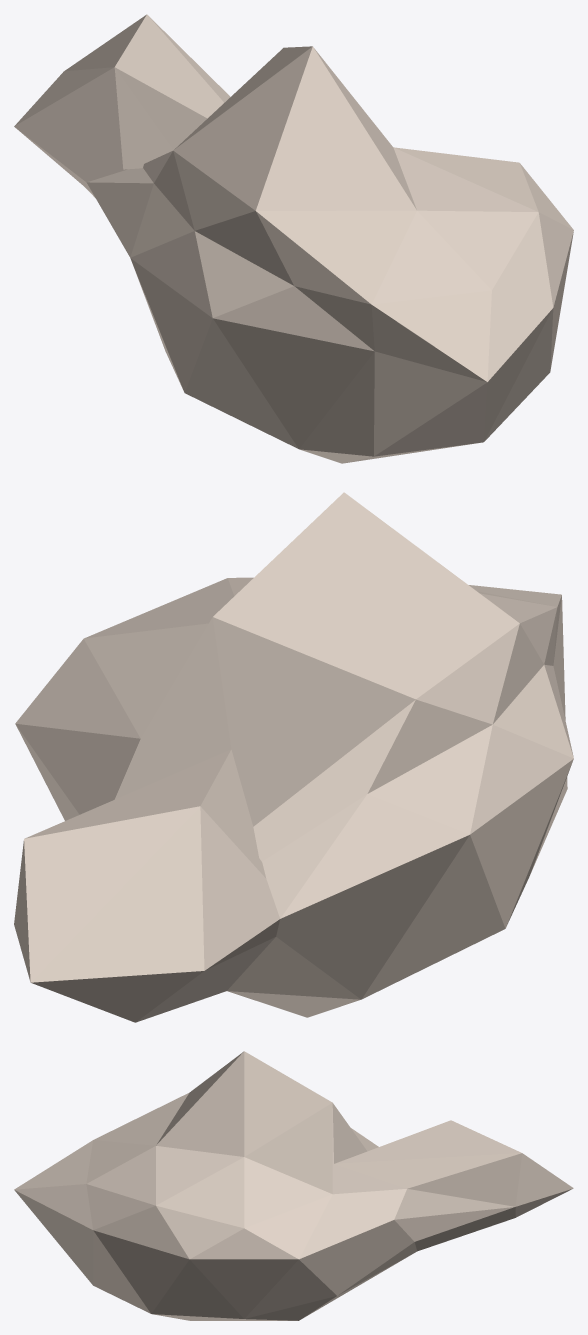
File: cloud2.fbx
3 renders of one model, top to bottom at view 1: azimuth 30°, elevation 25°; view 2: azimuth 150°, elevation 25°; view 3: azimuth 270°, elevation 25°, orthographic. The views are drawn at different scales.
Parts seen in each view (by area): view 1: Icosphere; view 2: Icosphere; view 3: Icosphere.
Boxes of the visible parts, left/top/right/bottom form: Icosphere: left=14, top=14, right=573, bottom=463; Icosphere: left=14, top=492, right=573, bottom=1022; Icosphere: left=14, top=1051, right=573, bottom=1320.
Size of the model in its own units: 1.56 by 1.63 by 3.17.
